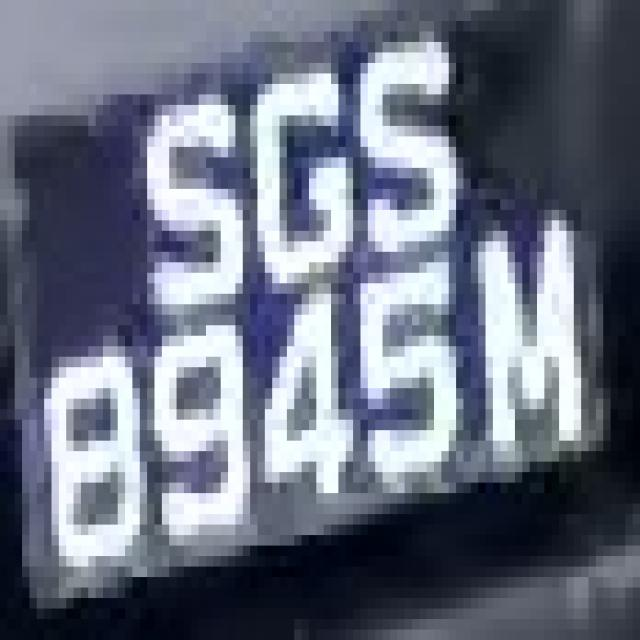4: (221, 283, 368, 514)
5: (338, 241, 456, 514)
8: (30, 294, 147, 619)
9: (140, 304, 272, 598)
G: (235, 63, 368, 294)
M: (449, 210, 603, 482)
S: (118, 73, 258, 315), (338, 42, 464, 273)
